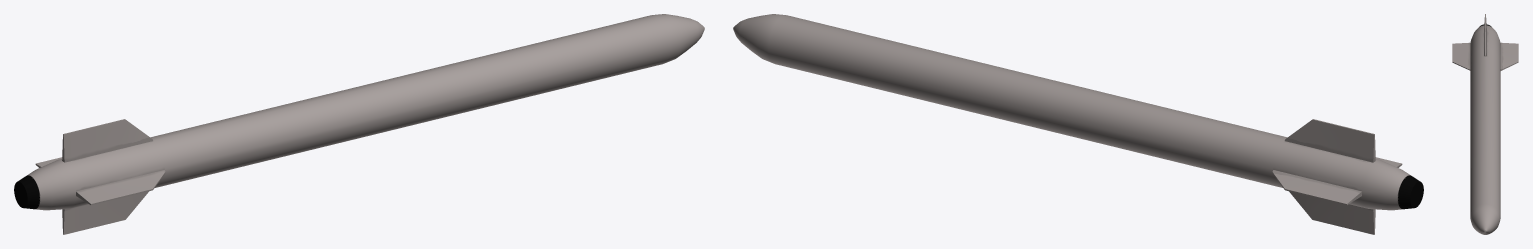
File: smoke pod without pylon.glb
3 views of the same model, side by side, from view 1: azimuth 30°, elevation 25°; view 2: azimuth 150°, elevation 25°; view 3: azimuth 270°, elevation 25° (orthographic). The views are drawn at different scales.
Parts seen in each view (by area): view 1: Cylinder; view 2: Cylinder; view 3: Cylinder.
Boxes of the visible parts, box(x1,y1,x2,y2) form: Cylinder: box(14, 14, 704, 234); Cylinder: box(733, 14, 1423, 234); Cylinder: box(1452, 14, 1518, 234).
Size of the model in its own units: 2.6 by 0.3656 by 0.3656.
1 material, 1 textured.
